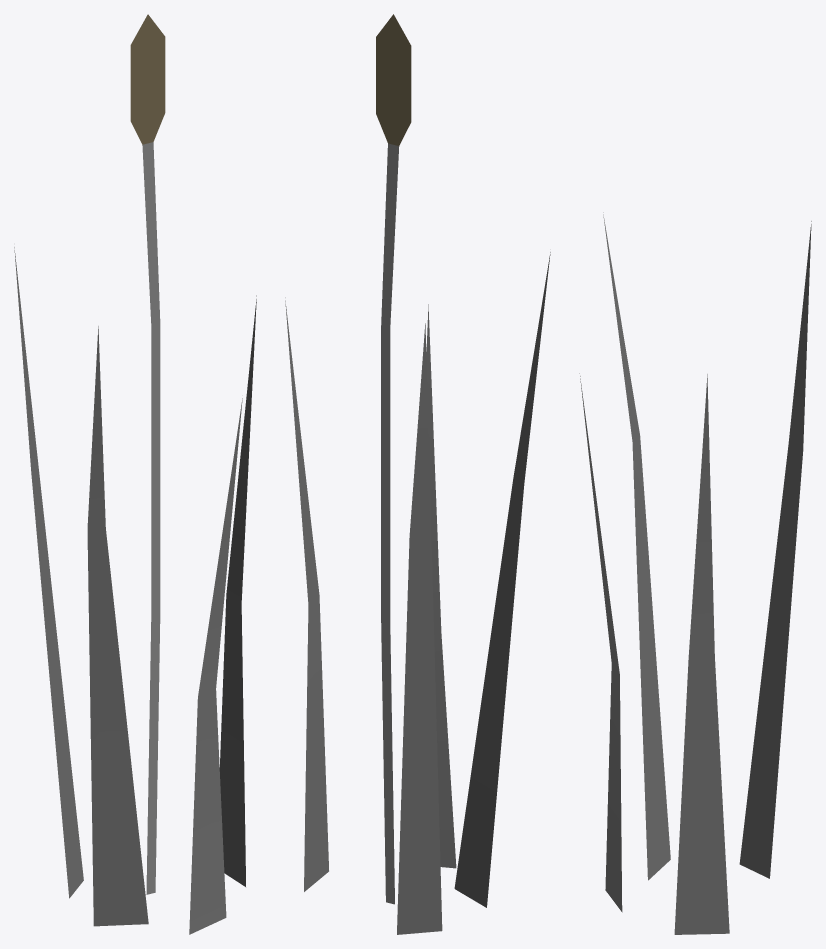
The model's file is M_2D_REED1.fbx.
3 renders of one model, left to right at view 1: azimuth 30°, elevation 25°; view 2: azimuth 150°, elevation 25°; view 3: azimuth 270°, elevation 25°, orthographic.
Visible parts, largest first — view 1: M_2D_REED1; view 2: M_2D_REED1; view 3: M_2D_REED1.
Part boxes in pixels (<box>): M_2D_REED1: <box>14,14,256,934</box>; M_2D_REED1: <box>285,14,550,934</box>; M_2D_REED1: <box>579,212,811,934</box>.
Bounding box in the file's own units: 13.86 × 55.33 × 13.21.
